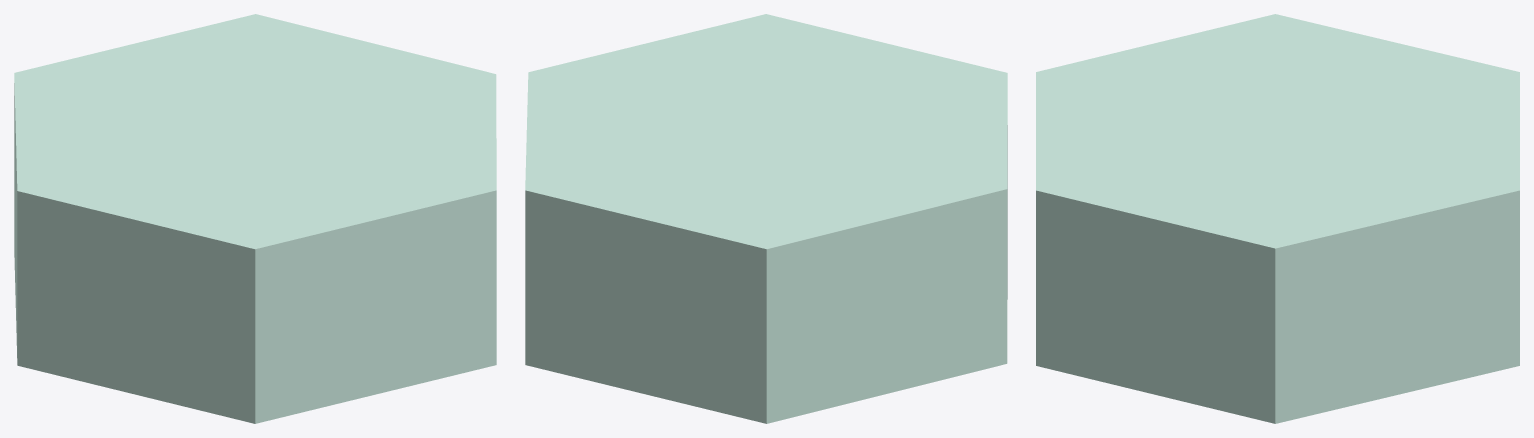
3 views of the same model, side by side, from view 1: azimuth 30°, elevation 25°; view 2: azimuth 150°, elevation 25°; view 3: azimuth 270°, elevation 25° (orthographic).
Visible parts, largest first — view 1: Renderer Node; view 2: Renderer Node; view 3: Renderer Node.
Part boxes in pixels (x1,y1,x2,y2): Renderer Node: (14,14,496,423); Renderer Node: (525,14,1007,423); Renderer Node: (1036,14,1519,423).
Size of the model in its own units: 0.3586 by 0.1328 by 0.3125.
